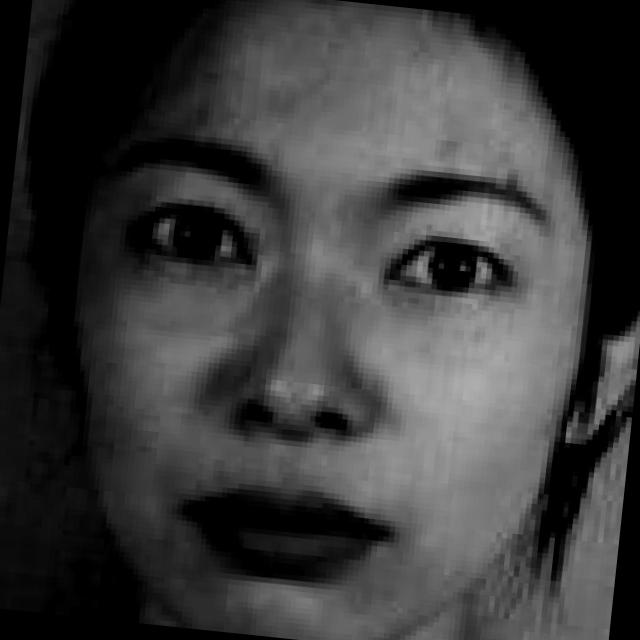fear: (71, 22, 588, 636)
